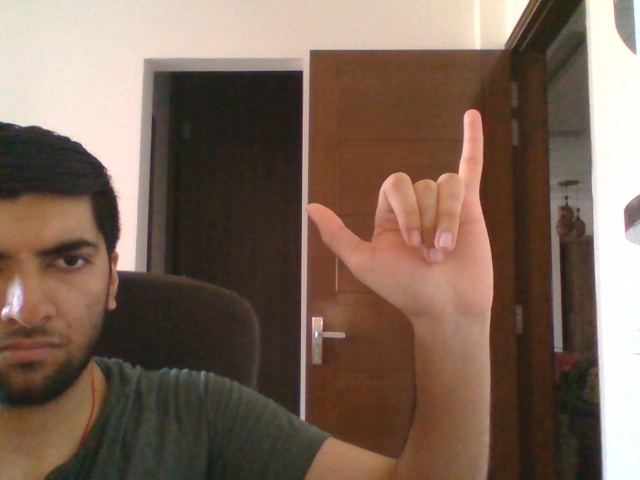LetterY: (306, 108, 498, 321)
